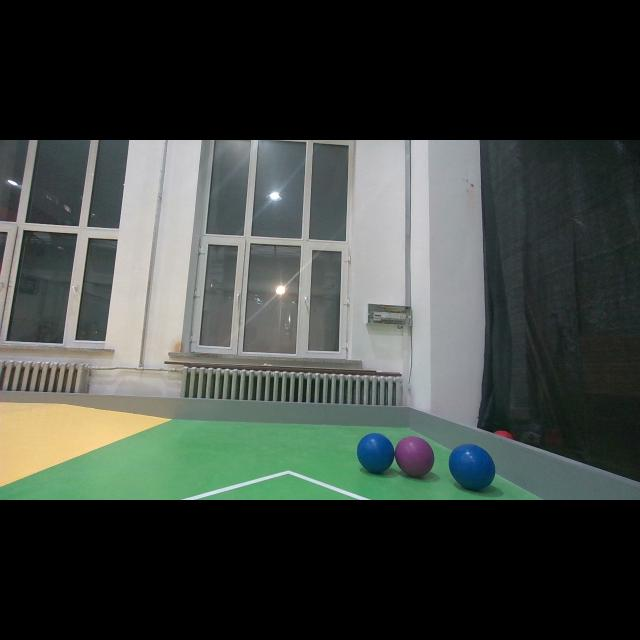B: (448, 444, 496, 490), (357, 432, 395, 473)
P: (396, 436, 434, 476)
